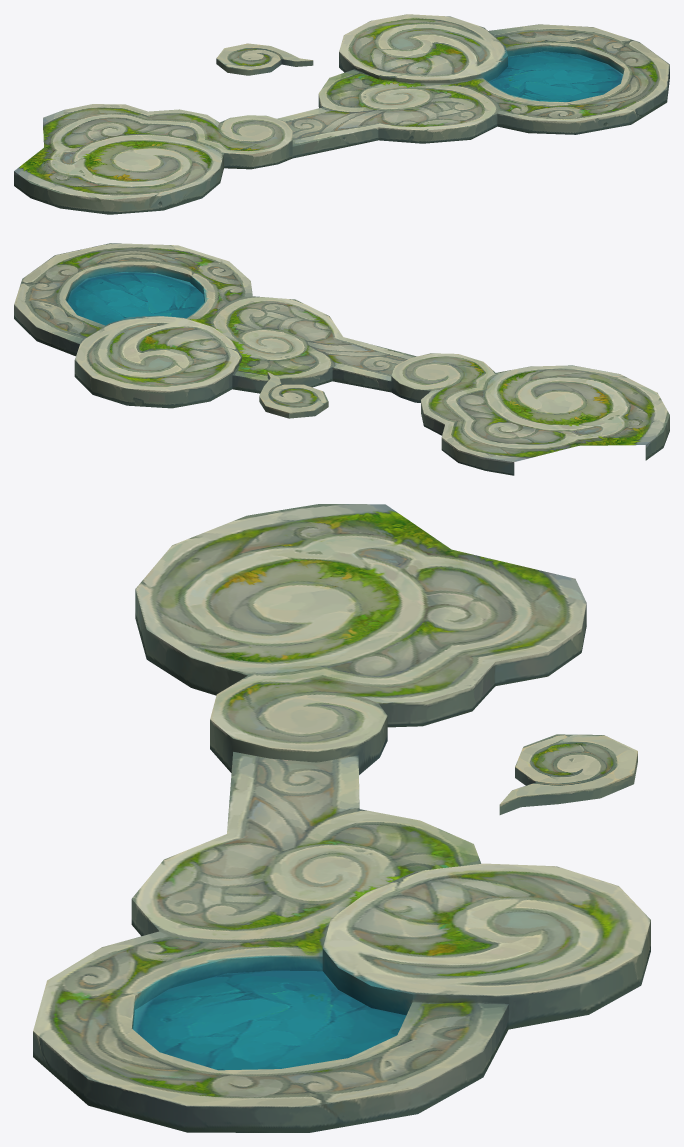
The model's file is fb_plxd_zj_07_a.FBX.
3 renders of one model, top to bottom at view 1: azimuth 30°, elevation 25°; view 2: azimuth 150°, elevation 25°; view 3: azimuth 270°, elevation 25°, orthographic. The views are drawn at different scales.
Parts seen in each view (by area): view 1: fb_plxd_zj_07_a; view 2: fb_plxd_zj_07_a; view 3: fb_plxd_zj_07_a.
Part boxes in pixels (<box>): fb_plxd_zj_07_a: <box>14,14,669,214</box>; fb_plxd_zj_07_a: <box>14,243,669,475</box>; fb_plxd_zj_07_a: <box>33,504,650,1132</box>.
Bounding box in the file's own units: 1383 × 64.1 × 610.
